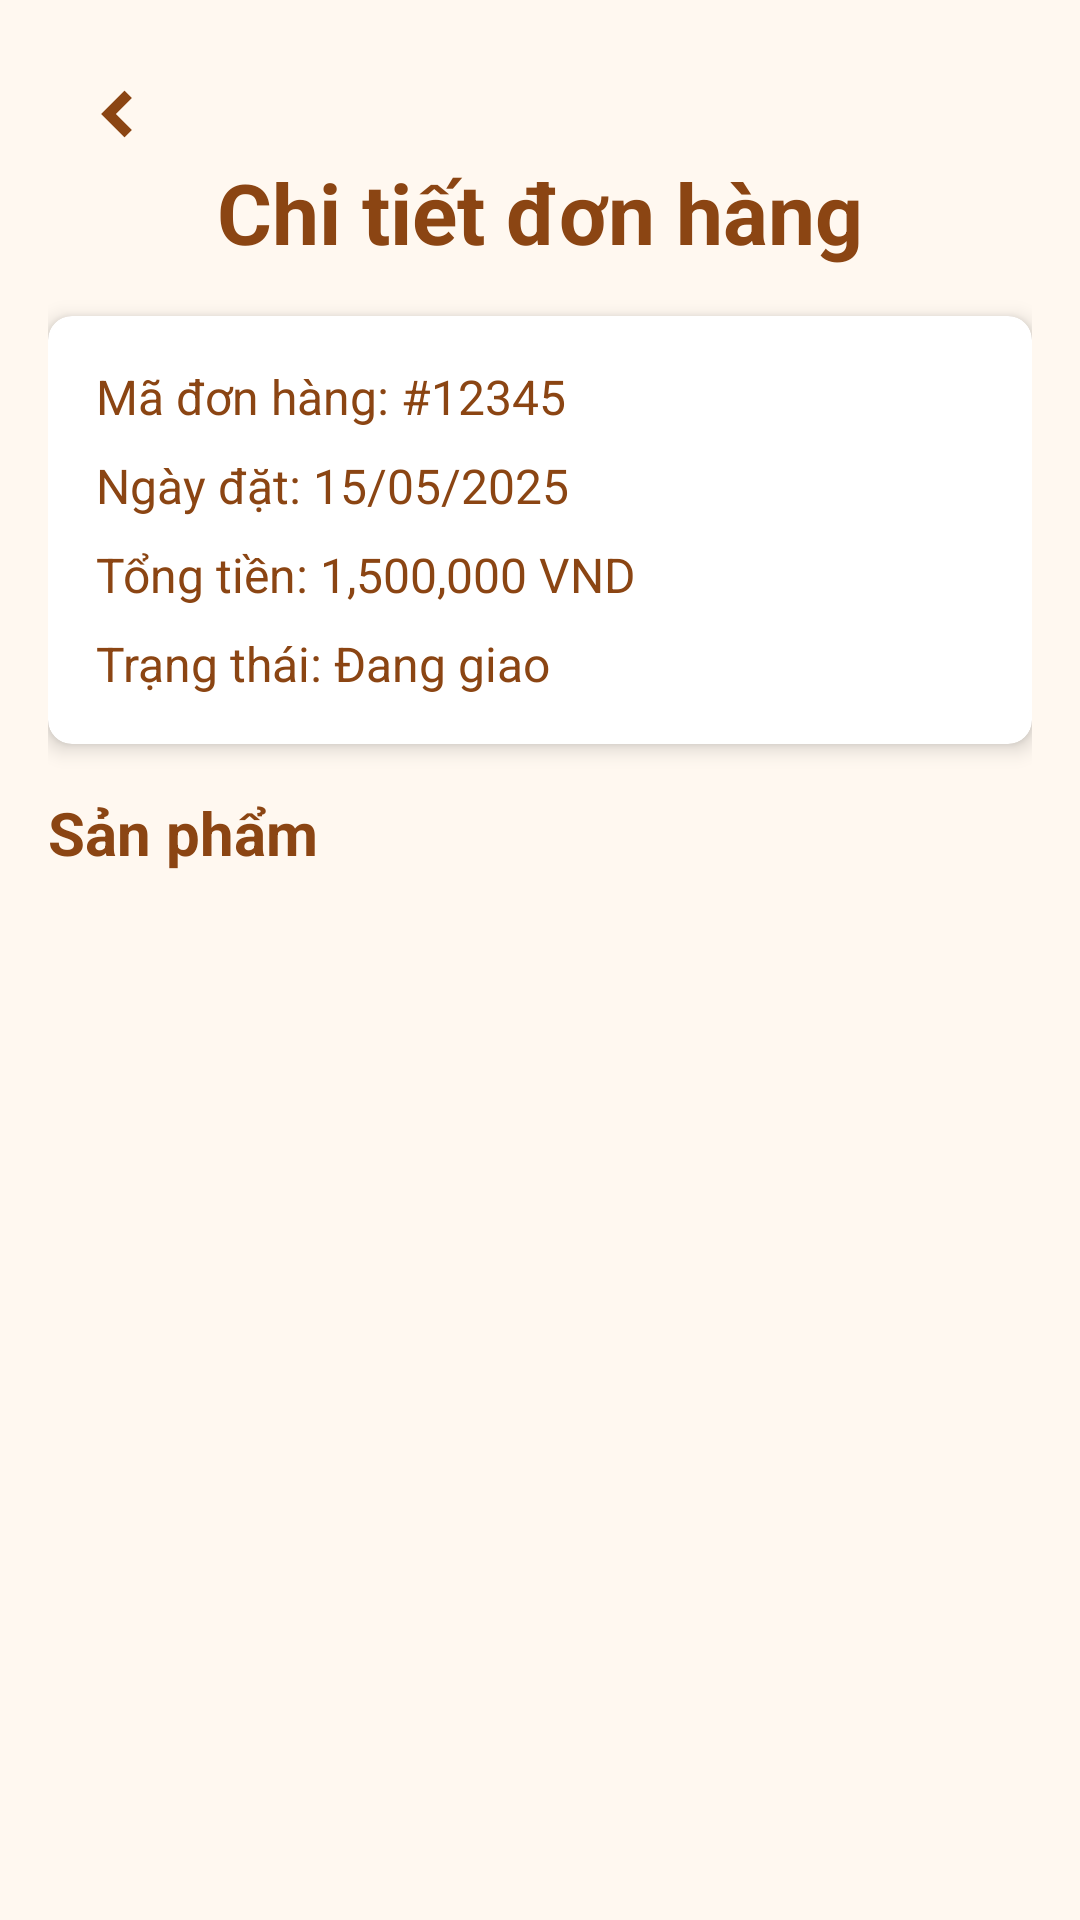

Icon bounding boxes for this 1080 × 1920 phone screenshot, format (x1, y1, x2, y2):
Quay lại: (101, 90, 132, 138)
